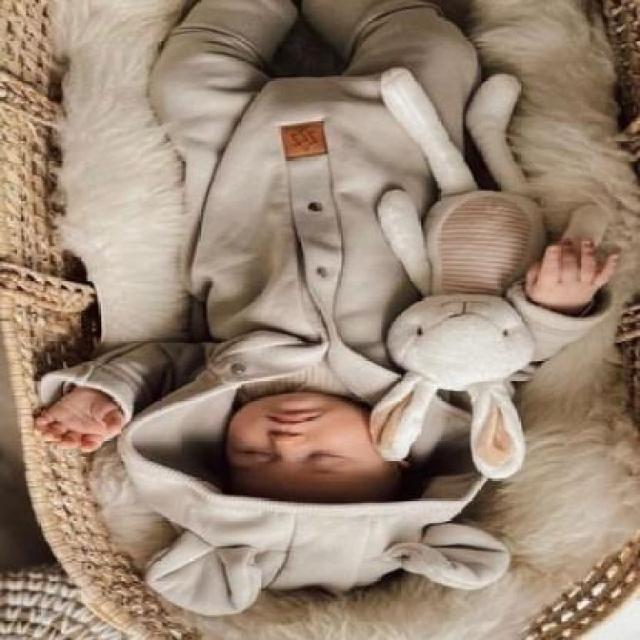baby: (33, 2, 618, 620)
